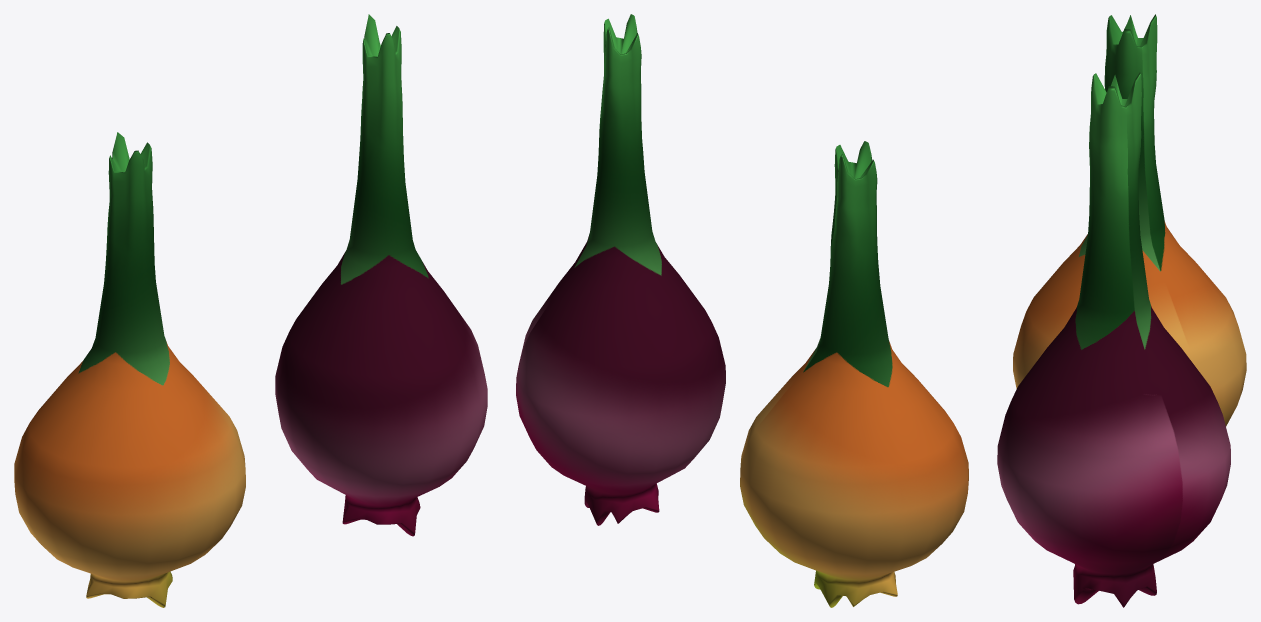
The model's file is Bullets.fbx.
The picture shows the model from 3 angles, left to right: view 1: azimuth 30°, elevation 25°; view 2: azimuth 150°, elevation 25°; view 3: azimuth 270°, elevation 25°; orthographic projection. The views are drawn at different scales.
Visible parts, largest first — view 1: Yellow_Onion, Purple_Onion; view 2: Yellow_Onion, Purple_Onion; view 3: Purple_Onion, Yellow_Onion.
Boxes of the visible parts, bbox=[...] form: Yellow_Onion: bbox=[14, 132, 245, 607]; Purple_Onion: bbox=[275, 14, 487, 536]; Yellow_Onion: bbox=[740, 141, 968, 607]; Purple_Onion: bbox=[516, 14, 725, 525]; Purple_Onion: bbox=[997, 72, 1230, 607]; Yellow_Onion: bbox=[1013, 14, 1246, 426].
Bounding box in the file's own units: 4.47 × 5.11 × 2.12.
1 material, 1 textured.
